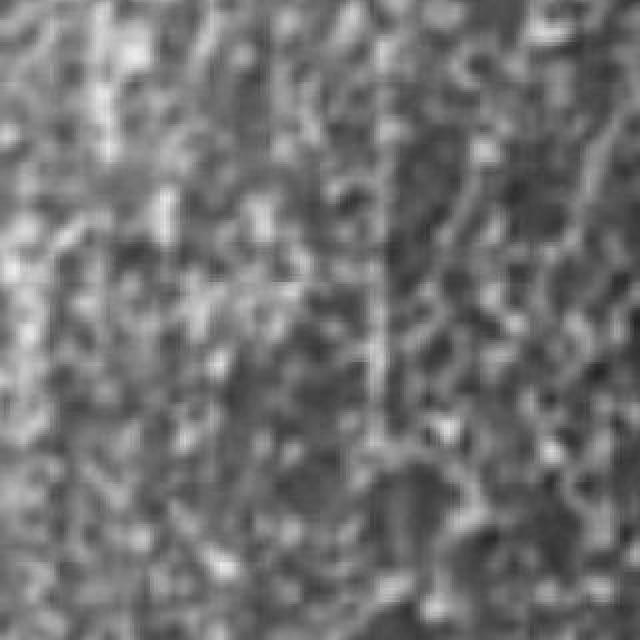Physical-damage: (20, 24, 615, 609)
